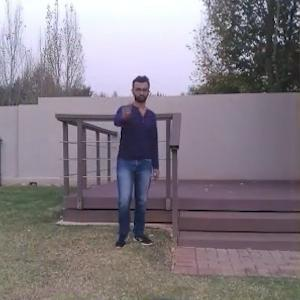takeoff-hand: (114, 97, 134, 122)
